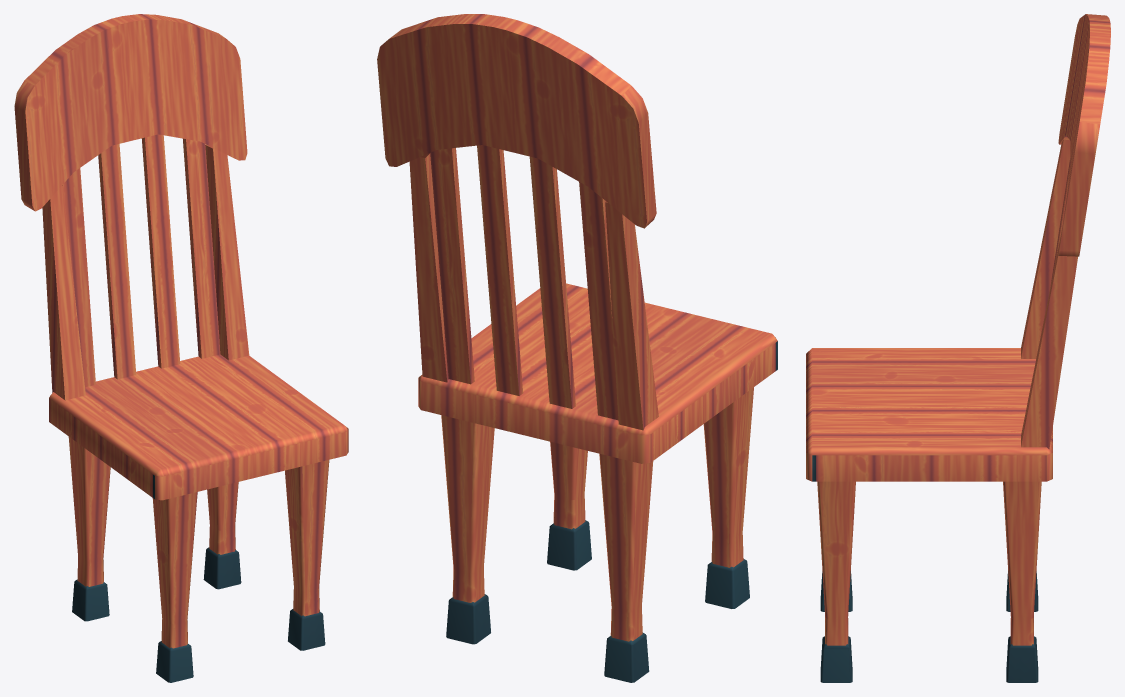
The model's file is ChairFancy.fbx.
The picture shows the model from 3 angles, left to right: view 1: azimuth 30°, elevation 25°; view 2: azimuth 150°, elevation 25°; view 3: azimuth 270°, elevation 25°; orthographic projection. The views are drawn at different scales.
Visible parts, largest first — view 1: ChairFancy; view 2: ChairFancy; view 3: ChairFancy.
Boxes of the visible parts, bbox=[...] form: ChairFancy: bbox=[14, 14, 348, 682]; ChairFancy: bbox=[377, 14, 777, 682]; ChairFancy: bbox=[806, 14, 1110, 682].
Bounding box in the file's own units: 0.6584 × 1.59 × 0.7215.
